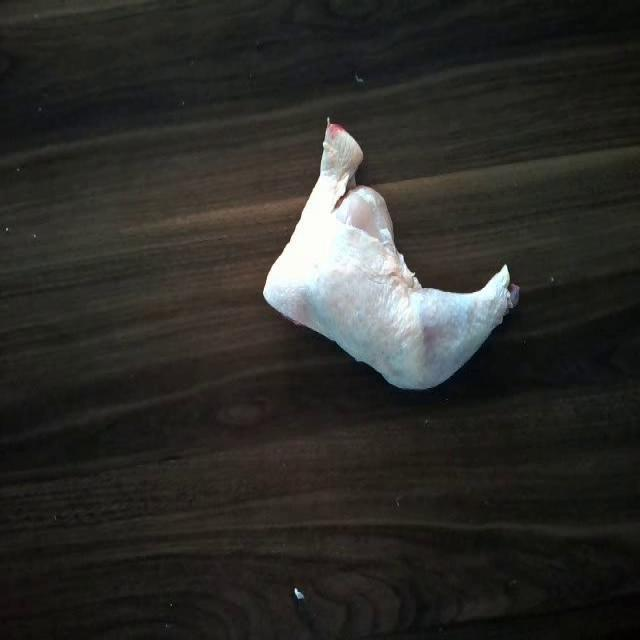quater: (264, 112, 540, 401)
